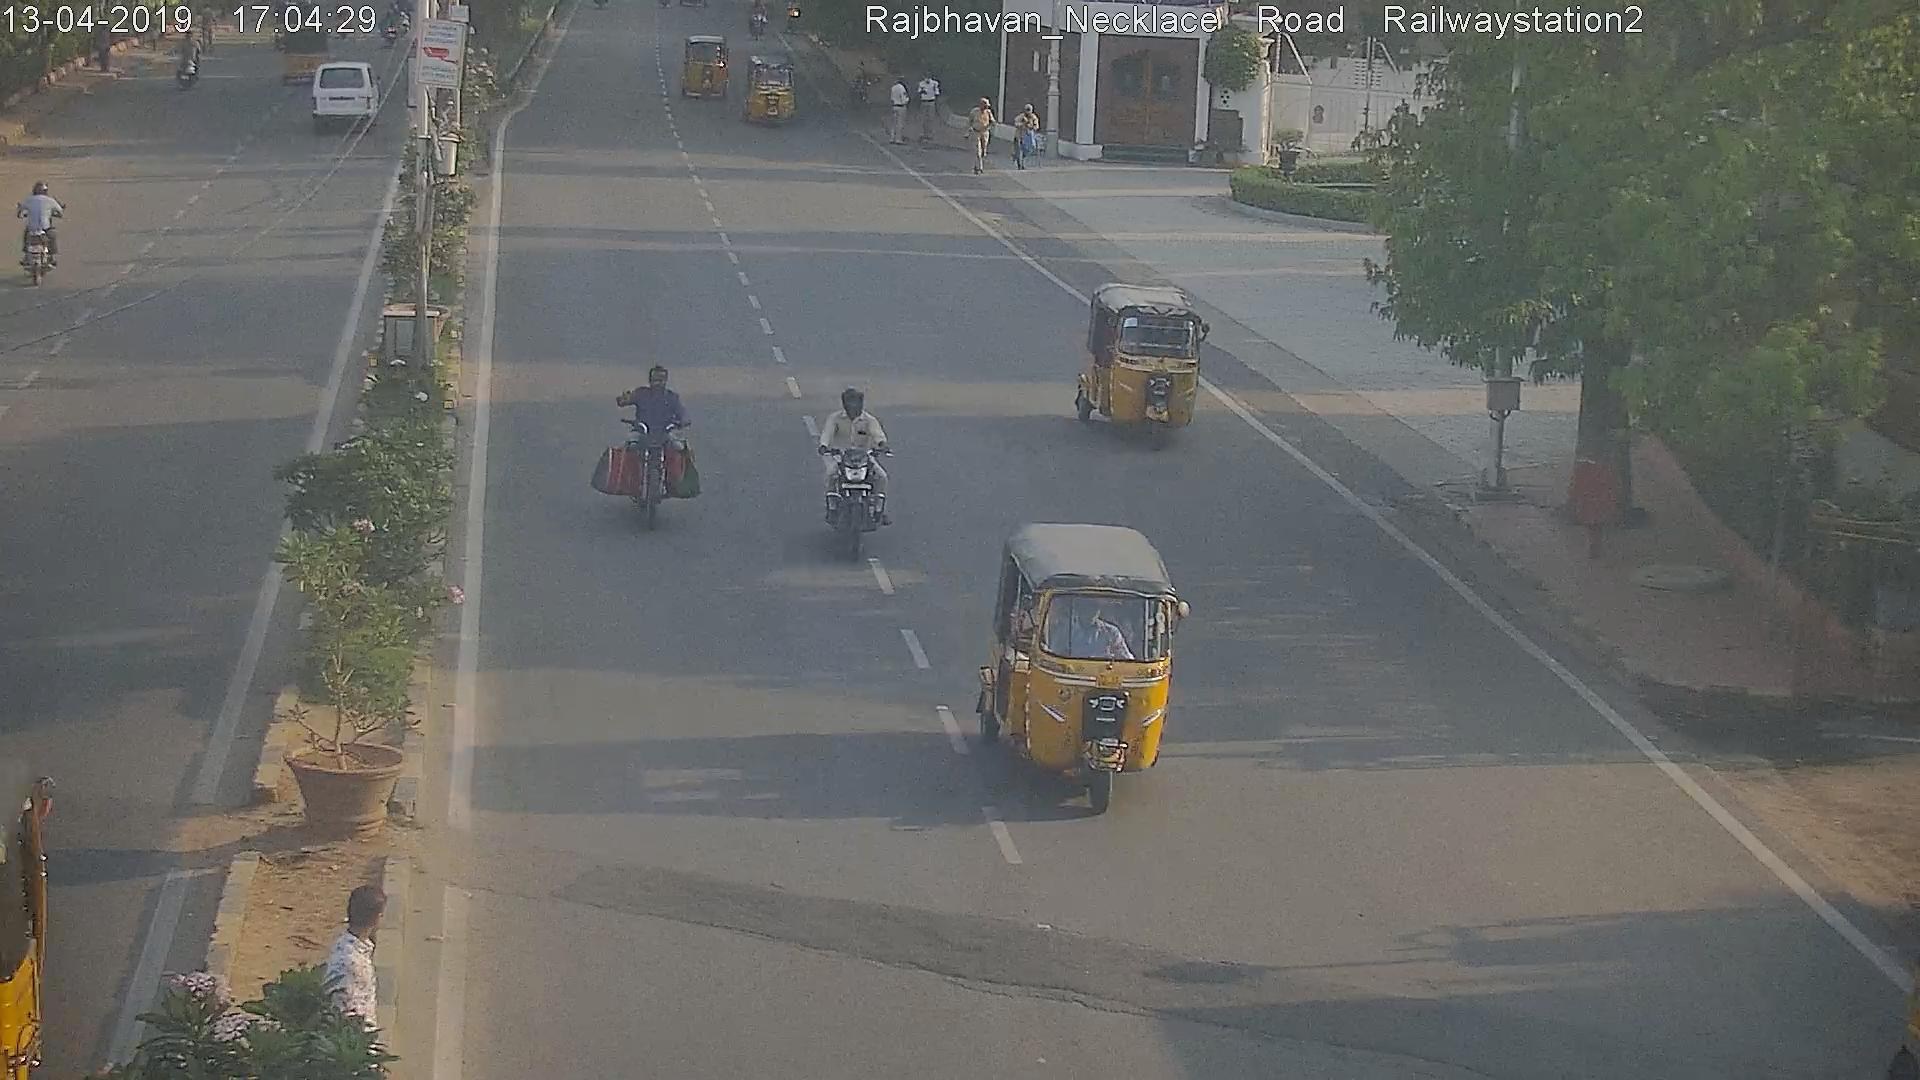2Wheeler: (822, 388, 882, 545), (624, 357, 680, 518), (16, 181, 63, 284)
